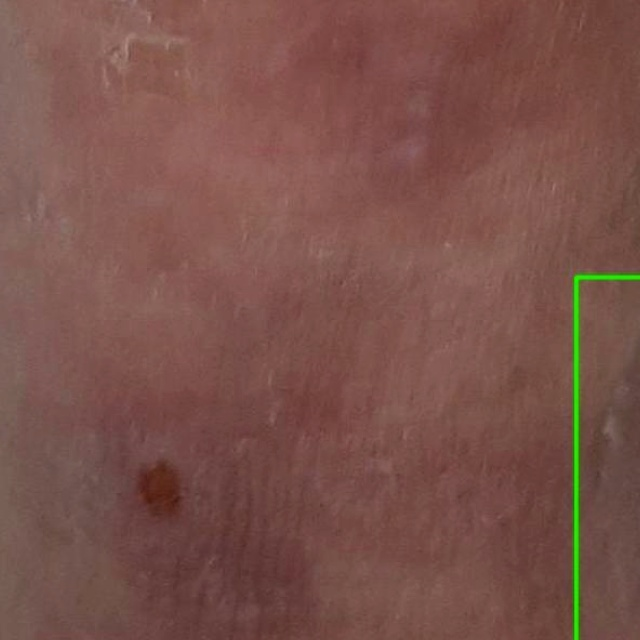Tinea Corporis: (576, 277, 639, 639)
